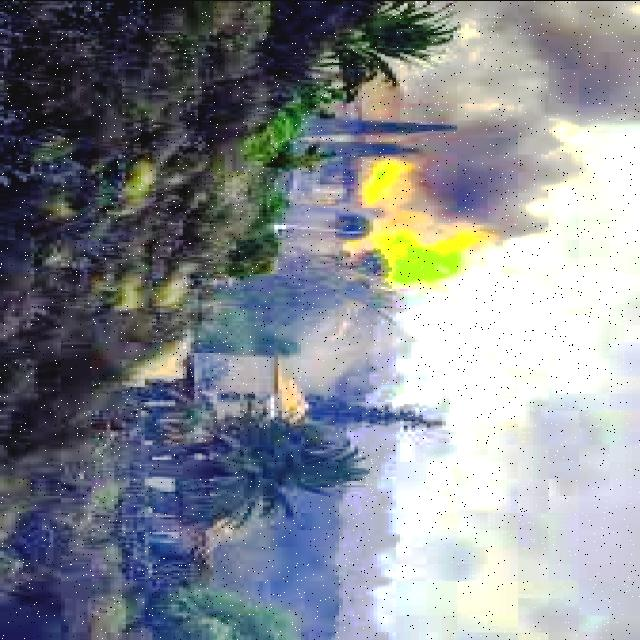api: (363, 235, 487, 290), (355, 160, 420, 227)
asap: (439, 3, 640, 231), (290, 319, 414, 395)
